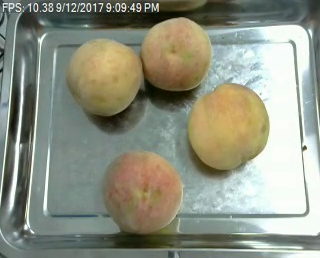Peach: (189, 82, 270, 170), (102, 149, 183, 232), (65, 37, 142, 116), (141, 17, 212, 91)
